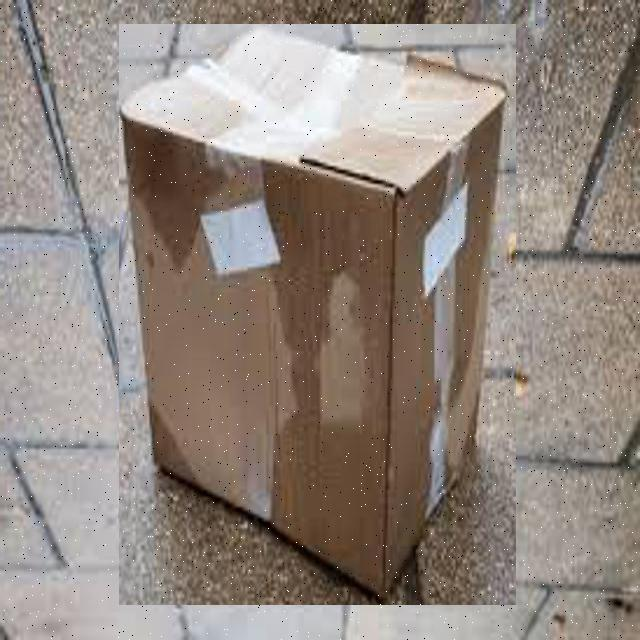defect: (119, 24, 516, 605)
